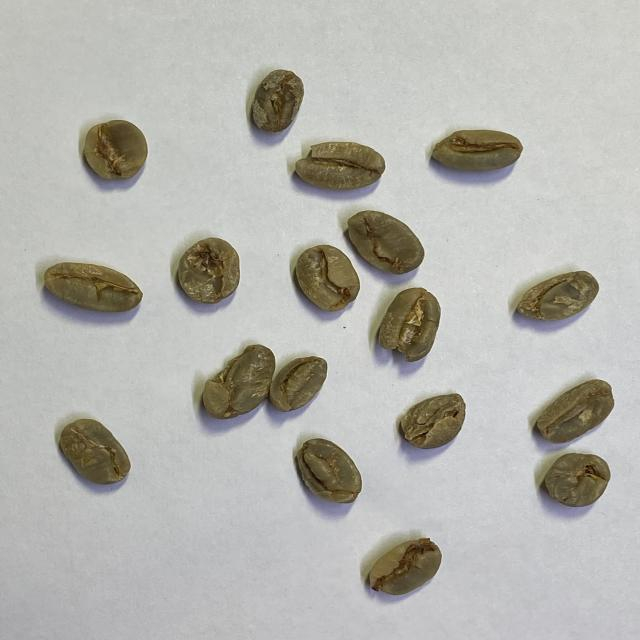bad: (200, 343, 277, 420), (534, 378, 616, 444), (346, 209, 426, 276), (43, 260, 144, 313), (377, 286, 442, 364), (293, 437, 365, 505), (59, 418, 132, 485), (294, 140, 386, 192), (367, 536, 444, 598), (293, 243, 361, 313), (177, 235, 242, 307), (515, 270, 600, 322), (82, 118, 149, 183), (431, 128, 525, 174), (398, 392, 466, 451), (543, 451, 611, 508), (251, 68, 306, 134), (269, 355, 329, 413)
